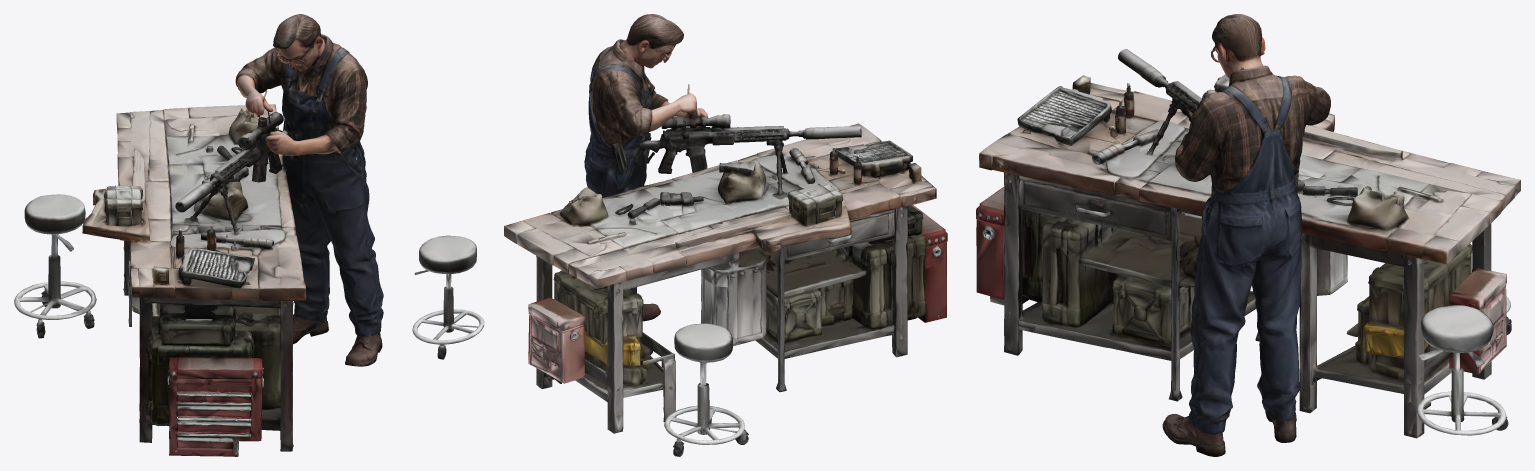
Rendered from mechanic.glb.
3 views of the same model, side by side, from view 1: azimuth 30°, elevation 25°; view 2: azimuth 150°, elevation 25°; view 3: azimuth 270°, elevation 25° (orthographic). The views are drawn at different scales.
Parts seen in each view (by area): view 1: tripo_node_1d11584e-456b-46ac-80cf-c0bbee354333; view 2: tripo_node_1d11584e-456b-46ac-80cf-c0bbee354333; view 3: tripo_node_1d11584e-456b-46ac-80cf-c0bbee354333.
Part boxes in pixels (x1,y1,x2,y2): tripo_node_1d11584e-456b-46ac-80cf-c0bbee354333: (14, 14, 383, 456); tripo_node_1d11584e-456b-46ac-80cf-c0bbee354333: (412, 14, 947, 456); tripo_node_1d11584e-456b-46ac-80cf-c0bbee354333: (976, 14, 1520, 456).
Size of the model in its own units: 0.9261 by 0.8049 by 0.9801.
Materials: 1 (1 with a texture image).
